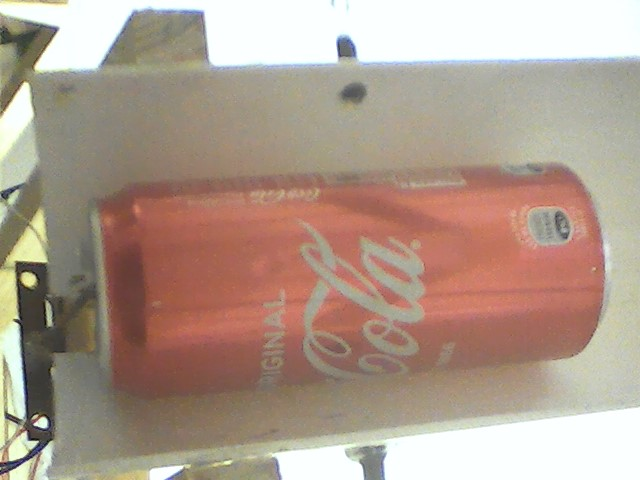lata: (86, 159, 610, 401)
